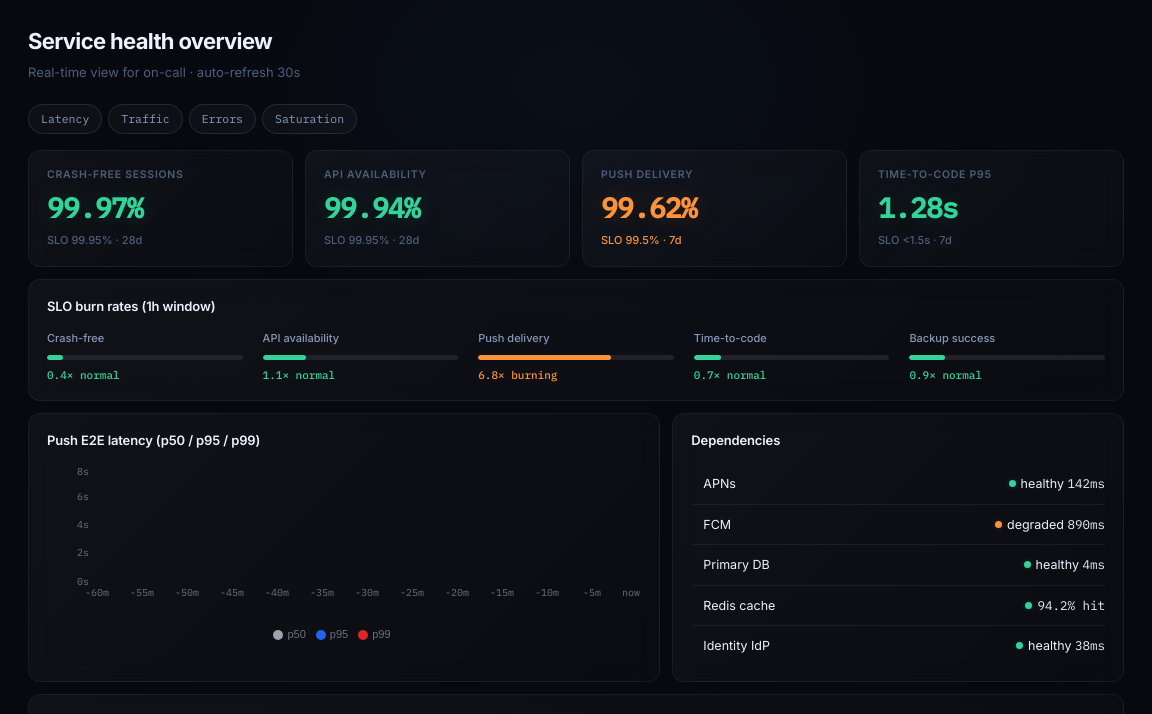
Test case: SREDashboard — golden signal filter › shows "✕ clear" button when a signal is selected
Expected: the text "clear" is not shown
Step 1. Click the button "Errors" → (222, 119), box [189,104,256,134]
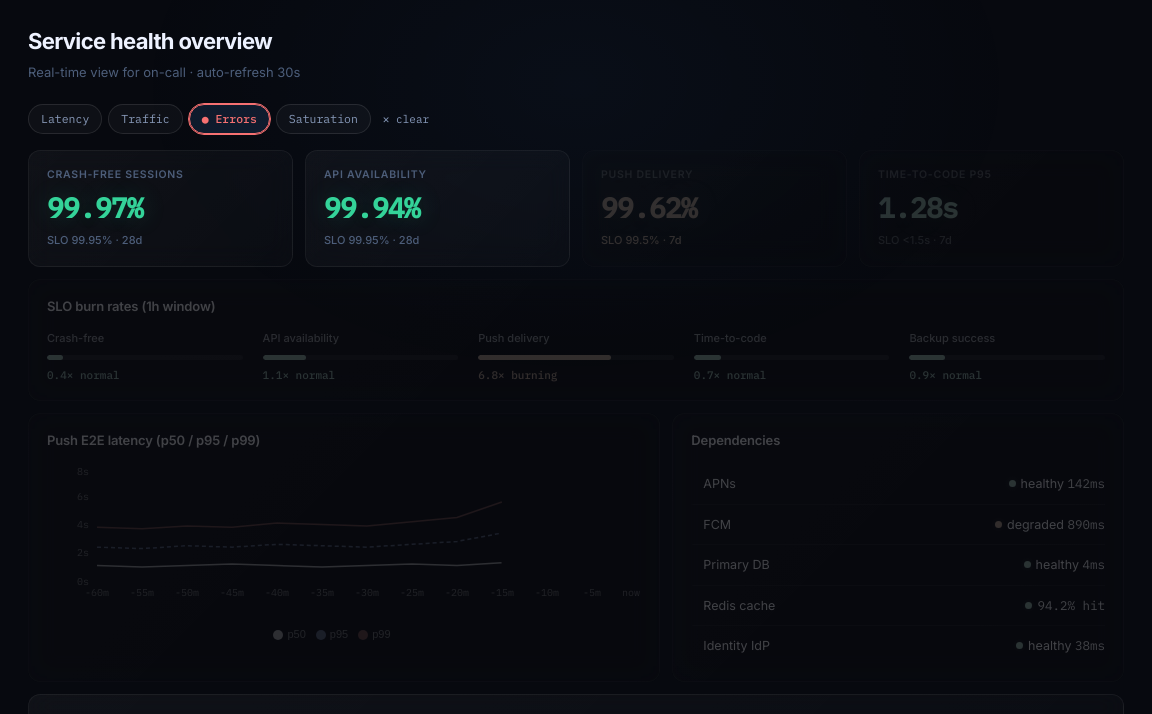
Result: the button "✕ clear" is shown at [377,104,435,134]
